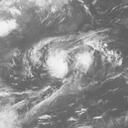cyclone: (45, 48, 69, 78)
